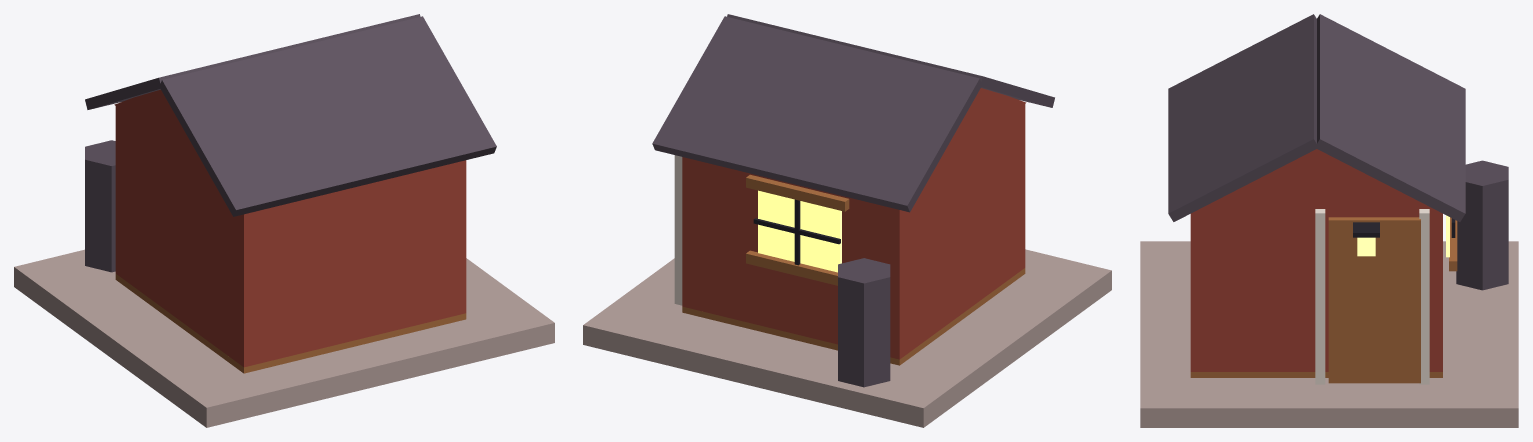
The model's file is bld.shed.lod2.glb.
3 views of the same model, side by side, from view 1: azimuth 30°, elevation 25°; view 2: azimuth 150°, elevation 25°; view 3: azimuth 270°, elevation 25° (orthographic). The views are drawn at different scales.
Visible parts, largest first — view 1: body, roof, interior; view 2: body, roof, window_side, interior; view 3: body, roof, door_main, interior, lamp_entrance.
Part boxes in pixels (left/top/right/bottom): body: left=14, top=89, right=554, bottom=427; roof: left=85, top=14, right=496, bottom=216; interior: left=115, top=274, right=466, bottom=373; body: left=583, top=88, right=1111, bottom=427; roof: left=652, top=14, right=1054, bottom=212; window_side: left=758, top=190, right=841, bottom=272; interior: left=682, top=268, right=1025, bottom=365; body: left=1140, top=149, right=1518, bottom=427; roof: left=1168, top=14, right=1465, bottom=221; door_main: left=1328, top=217, right=1420, bottom=383; interior: left=1190, top=372, right=1442, bottom=377; lamp_entrance: left=1353, top=222, right=1379, bottom=256.
Bounding box in the file's own units: 4.7 × 3.52 × 4.5.
